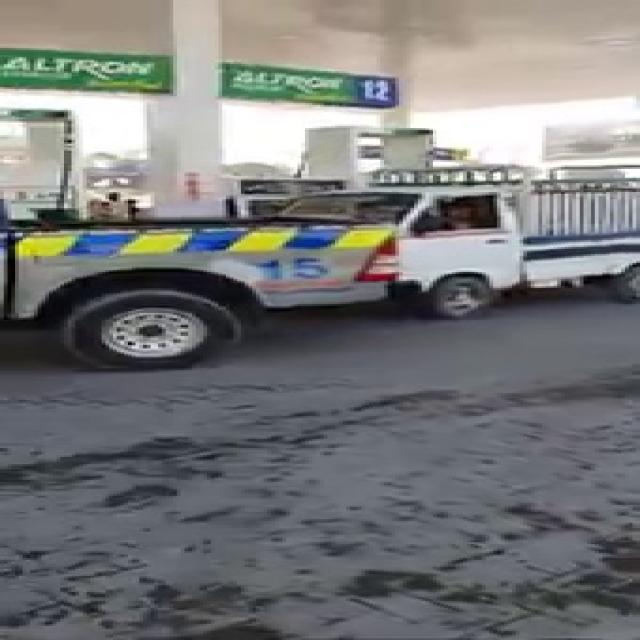police: (0, 216, 355, 359)
